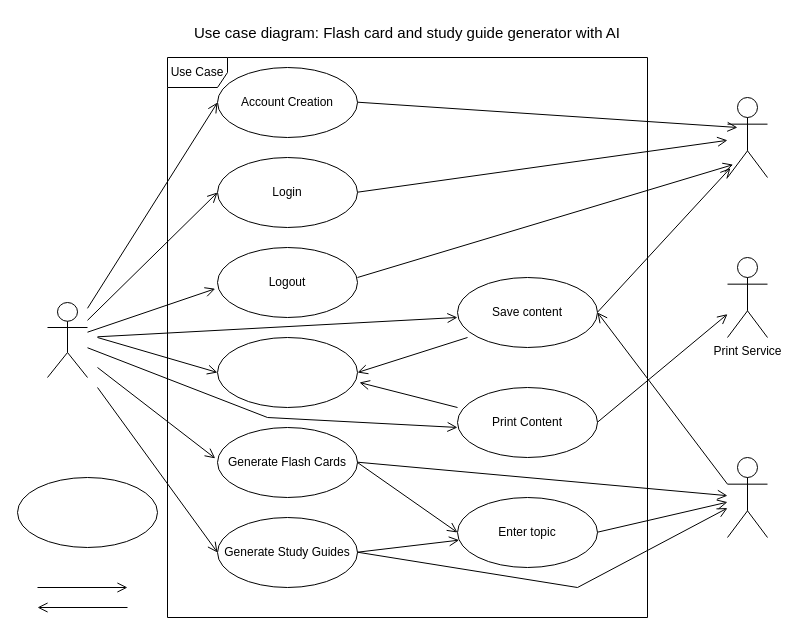
Some shapes in this 799 by 635 pixel diagram are drawn without their labels. The shapes that lost their labels are listed below. From the top down, each one's centre as x and y in pixels, then its label:
At (747,137): "Firebase".
At (67,340): "User".
At (287,372): "View Content".
At (87,512): "Blank".
At (747,497): "AI".
